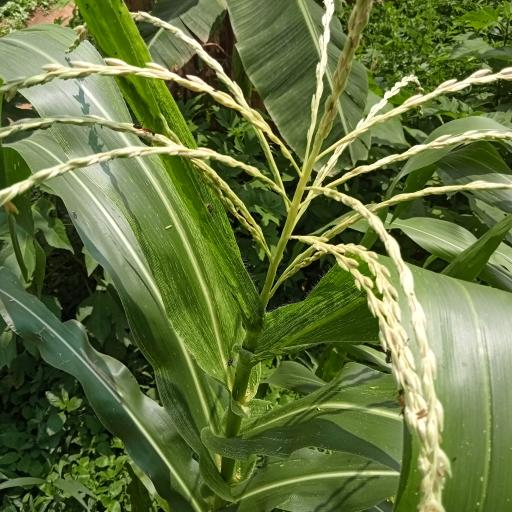Corn_Streak: (0, 6, 239, 492)
